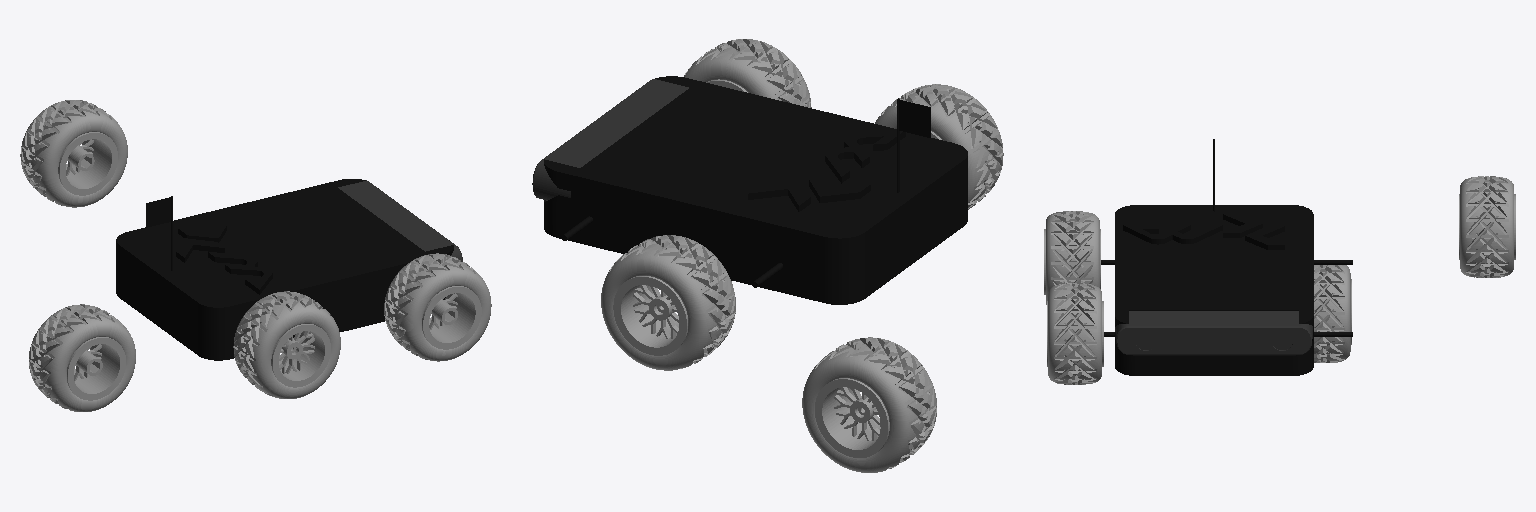
robot.urdf — ma_robot:
<?xml version="1.0" ?>
<!-- =================================================================================== -->
<!-- |    This document was autogenerated by xacro from ma_robot_description/urdf/ma_robot.urdf.xacro | -->
<!-- |    EDITING THIS FILE BY HAND IS NOT RECOMMENDED                                 | -->
<!-- =================================================================================== -->
<robot name="ma_robot">
  <!-- Materials (shared across all assemblies) -->
  <material name="Acetal_Resin_Black">
    <color rgba="0.098 0.098 0.098 1.0"/>
  </material>
  <material name="PA_11_Nylon_HP_11_30_with_EOS_P_396_3D_Printer">
    <color rgba="0.247 0.247 0.247 1.0"/>
  </material>
  <material name="Steel">
    <color rgba="0.627 0.627 0.627 1.0"/>
  </material>
  <link name="rear_left_wheel_link">
    <inertial>
      <origin rpy="0 0 0" xyz="0 0 0"/>
      <mass value="0.611603"/>
      <inertia ixx="5.265770e-04" ixy="-5.777757e-10" ixz="8.274260e-11" iyy="5.265750e-04" iyz="-6.033033e-11" izz="7.325315e-04"/>
    </inertial>
    <visual>
      <origin rpy="1.570796 0.000000 0.000000" xyz="-0.012900 -0.018051 0.005477"/>
      <geometry>
        <mesh filename="package://ma_robot_description/meshes/rear_left_wheel_link/rear_left_wheel_link.dae" scale="1 1 1"/>
      </geometry>
      <material name="Steel"/>
    </visual>
    <collision>
      <origin rpy="0 0 0" xyz="0 0 0"/>
      <geometry>
        <cylinder length="0.050" radius="0.045"/>
      </geometry>
    </collision>
  </link>
  <link name="front_left_wheel_link">
    <inertial>
      <origin rpy="0 0 0" xyz="0 0 0"/>
      <mass value="0.611603"/>
      <inertia ixx="5.265770e-04" ixy="-5.777757e-10" ixz="-8.274260e-11" iyy="5.265750e-04" iyz="6.033033e-11" izz="7.325315e-04"/>
    </inertial>
    <visual>
      <origin rpy="1.570796 0.000000 3.141593" xyz="-0.107100 0.070499 -0.137841"/>
      <geometry>
        <mesh filename="package://ma_robot_description/meshes/front_left_wheel_link/front_left_wheel_link.dae" scale="1 1 1"/>
      </geometry>
      <material name="Steel"/>
    </visual>
    <collision>
      <origin rpy="0 0 0" xyz="0 0 0"/>
      <geometry>
        <cylinder length="0.050" radius="0.045"/>
      </geometry>
    </collision>
  </link>
  <link name="front_right_wheel_link">
    <inertial>
      <origin rpy="0 0 0" xyz="0 0 0"/>
      <mass value="0.611603"/>
      <inertia ixx="5.265770e-04" ixy="-5.777757e-10" ixz="-8.274258e-11" iyy="5.265750e-04" iyz="6.033033e-11" izz="7.325315e-04"/>
    </inertial>
    <visual>
      <origin rpy="1.570796 0.000000 3.141593" xyz="0.179797 0.018051 0.124560"/>
      <geometry>
        <mesh filename="package://ma_robot_description/meshes/front_right_wheel_link/front_right_wheel_link.dae" scale="1 1 1"/>
      </geometry>
      <material name="Steel"/>
    </visual>
    <collision>
      <origin rpy="0 0 0" xyz="0 0 0"/>
      <geometry>
        <cylinder length="0.050" radius="0.045"/>
      </geometry>
    </collision>
  </link>
  <link name="rear_right_wheel_link">
    <inertial>
      <origin rpy="0 0 0" xyz="0 0 0"/>
      <mass value="0.611603"/>
      <inertia ixx="5.265770e-04" ixy="-5.777757e-10" ixz="8.274260e-11" iyy="5.265750e-04" iyz="-6.033033e-11" izz="7.325315e-04"/>
    </inertial>
    <visual>
      <origin rpy="1.570796 0.000000 0.000000" xyz="0.002378 -0.018051 -0.241816"/>
      <geometry>
        <mesh filename="package://ma_robot_description/meshes/rear_right_wheel_link/rear_right_wheel_link.dae" scale="1 1 1"/>
      </geometry>
      <material name="Steel"/>
    </visual>
    <collision>
      <origin rpy="0 0 0" xyz="0 0 0"/>
      <geometry>
        <cylinder length="0.050" radius="0.045"/>
      </geometry>
    </collision>
  </link>
  <!-- Links -->
  <link name="base_link">
    <inertial>
      <origin rpy="0 0 0" xyz="0.041574 -0.062494 0.024420"/>
      <mass value="2.899172"/>
      <inertia ixx="7.973854e-03" ixy="9.036948e-07" ixz="2.783510e-04" iyy="1.379501e-02" iyz="-4.481462e-07" izz="2.052789e-02"/>
    </inertial>
    <visual>
      <origin rpy="0.000000 0.000000 0.000000" xyz="0.000000 0.000000 0.000000"/>
      <geometry>
        <mesh filename="package://ma_robot_description/meshes/ma_robot/base_link.dae" scale="1 1 1"/>
      </geometry>
      <material name="Acetal_Resin_Black"/>
    </visual>
    <collision>
      <origin rpy="0.000000 0.000000 0.000000" xyz="0.000000 0.000000 0.000000"/>
      <geometry>
        <mesh filename="package://ma_robot_description/meshes/ma_robot/base_link_collision.stl" scale="0.01 0.01 0.01"/>
      </geometry>
    </collision>
  </link>
  <link name="zed2_camera_link">
    <inertial>
      <origin rpy="0 0 0" xyz="0.000000 0.015505 0.042389"/>
      <mass value="0.178229"/>
      <inertia ixx="2.662726e-05" ixy="-3.215230e-09" ixz="-1.621734e-09" iyy="4.362977e-04" iyz="-2.967393e-09" izz="4.390806e-04"/>
    </inertial>
    <visual>
      <origin rpy="0.000000 0.000000 0.000000" xyz="0.000000 0.000000 0.000000"/>
      <geometry>
        <mesh filename="package://ma_robot_description/meshes/ma_robot/zed2_camera_link.dae" scale="1 1 1"/>
      </geometry>
      <material name="PA_11_Nylon_HP_11_30_with_EOS_P_396_3D_Printer"/>
    </visual>
    <collision>
      <origin rpy="0.000000 0.000000 0.000000" xyz="0.000000 0.000000 0.000000"/>
      <geometry>
        <mesh filename="package://ma_robot_description/meshes/ma_robot/zed2_camera_link_collision.stl" scale="0.01 0.01 0.01"/>
      </geometry>
    </collision>
  </link>
  <link name="rplidar_s2_link">
    <inertial>
      <origin rpy="0 0 0" xyz="-0.595013 0.532942 0.012880"/>
      <mass value="0.203764"/>
      <inertia ixx="1.351079e-04" ixy="-7.653496e-09" ixz="1.410544e-08" iyy="1.362177e-04" iyz="3.930765e-08" izz="2.370283e-04"/>
    </inertial>
    <visual>
      <origin rpy="0.000000 0.000000 0.000000" xyz="0.000000 0.000000 0.000000"/>
      <geometry>
        <mesh filename="package://ma_robot_description/meshes/ma_robot/rplidar_s2_link.dae" scale="1 1 1"/>
      </geometry>
      <material name="Steel"/>
    </visual>
    <collision>
      <origin rpy="0.000000 0.000000 0.000000" xyz="0.000000 0.000000 0.000000"/>
      <geometry>
        <mesh filename="package://ma_robot_description/meshes/ma_robot/rplidar_s2_link_collision.stl" scale="0.01 0.01 0.01"/>
      </geometry>
    </collision>
  </link>
  <!-- Joints (internal to assembly) -->
  <joint name="zed2_camera_joint" type="fixed">
    <parent link="base_link"/>
    <child link="zed2_camera_link"/>
    <origin rpy="0.000000 0.000000 -1.570796" xyz="0.145000 -0.062500 -0.007371"/>
  </joint>
  <joint name="rplidar_s2_joint" type="fixed">
    <parent link="base_link"/>
    <child link="rplidar_s2_link"/>
    <origin rpy="0.000000 0.000000 -1.570796" xyz="-0.433747 -0.657506 0.046815"/>
  </joint>
  <!-- Wheel mount joints -->
  <!-- Front-left wheel -->
  <joint name="front_left_wheel_joint" type="continuous">
    <parent link="base_link"/>
    <child link="front_left_wheel_link"/>
    <origin rpy="-1.570796 0.000000 0.000000" xyz="0.130000 0.060000 0.020000"/>
    <axis xyz="0.000000 0.000000 1.000000"/>
    <limit effort="100.0" velocity="1.00"/>
  </joint>
  <!-- Front-right wheel -->
  <joint name="front_right_wheel_joint" type="continuous">
    <parent link="base_link"/>
    <child link="front_right_wheel_link"/>
    <origin rpy="1.570796 0.000000 0.000000" xyz="0.130000 -0.185000 0.020000"/>
    <axis xyz="0.000000 0.000000 1.000000"/>
    <limit effort="100.0" velocity="1.00"/>
  </joint>
  <!-- Rear-left wheel -->
  <joint name="rear_left_wheel_joint" type="continuous">
    <parent link="base_link"/>
    <child link="rear_left_wheel_link"/>
    <origin rpy="-1.570796 0.000000 0.000000" xyz="-0.020000 0.060000 0.020000"/>
    <axis xyz="0.000000 0.000000 1.000000"/>
    <limit effort="100.0" velocity="1.00"/>
  </joint>
  <!-- Rear-right wheel -->
  <joint name="rear_right_wheel_joint" type="continuous">
    <parent link="base_link"/>
    <child link="rear_right_wheel_link"/>
    <origin rpy="1.570796 0.000000 0.000000" xyz="-0.020000 -0.187000 0.020000"/>
    <axis xyz="0.000000 0.000000 1.000000"/>
    <limit effort="100.0" velocity="1.00"/>
  </joint>
  <!-- ROS 2 control: generated generic system -->
  <ros2_control name="ma_robot_system" type="system">
    <hardware>
      <plugin>mock_components/GenericSystem</plugin>
      <param name="cmd_topic">sim/ma_robot_system/cmd</param>
      <param name="state_topic">sim/ma_robot_system/state</param>
    </hardware>
    <joint name="front_left_wheel_joint">
      <command_interface name="position"/>
      <command_interface name="velocity"/>
      <state_interface name="position">
        <param name="initial_value">0.0</param>
      </state_interface>
      <state_interface name="velocity"/>
      <state_interface name="effort"/>
    </joint>
    <joint name="front_right_wheel_joint">
      <command_interface name="position"/>
      <command_interface name="velocity"/>
      <state_interface name="position">
        <param name="initial_value">0.0</param>
      </state_interface>
      <state_interface name="velocity"/>
      <state_interface name="effort"/>
    </joint>
    <joint name="rear_left_wheel_joint">
      <command_interface name="position"/>
      <command_interface name="velocity"/>
      <state_interface name="position">
        <param name="initial_value">0.0</param>
      </state_interface>
      <state_interface name="velocity"/>
      <state_interface name="effort"/>
    </joint>
    <joint name="rear_right_wheel_joint">
      <command_interface name="position"/>
      <command_interface name="velocity"/>
      <state_interface name="position">
        <param name="initial_value">0.0</param>
      </state_interface>
      <state_interface name="velocity"/>
      <state_interface name="effort"/>
    </joint>
  </ros2_control>
</robot>

--- Facts derived from the render (not from the file) ---
Views: 3 orthographic renders of the robot side by side, from view 1: azimuth 30°, elevation 25°; view 2: azimuth 150°, elevation 25°; view 3: azimuth 270°, elevation 25°.
Model ma_robot with 7 links and 6 joints (4 continuous, 2 fixed), rooted at base_link, posed all joints at 0.
Visible links, largest first — view 1: base_link, rear_right_wheel_link, rear_left_wheel_link, front_left_wheel_link, front_right_wheel_link, zed2_camera_link; view 2: base_link, rear_left_wheel_link, front_left_wheel_link, rear_right_wheel_link, front_right_wheel_link, zed2_camera_link; view 3: base_link, zed2_camera_link, rear_left_wheel_link, front_right_wheel_link, rear_right_wheel_link, front_left_wheel_link.
Link boxes in pixels (x1,y1,x2,y2): base_link: (116, 179, 453, 360); rear_right_wheel_link: (233, 291, 340, 398); rear_left_wheel_link: (20, 100, 127, 207); front_left_wheel_link: (29, 304, 135, 411); front_right_wheel_link: (384, 253, 491, 361); zed2_camera_link: (338, 180, 462, 261); base_link: (544, 76, 967, 304); rear_left_wheel_link: (601, 235, 735, 370); front_left_wheel_link: (802, 337, 936, 472); rear_right_wheel_link: (875, 84, 1003, 209); front_right_wheel_link: (684, 39, 811, 107); zed2_camera_link: (532, 79, 688, 200); base_link: (1101, 139, 1352, 375); zed2_camera_link: (1115, 311, 1312, 354); rear_left_wheel_link: (1459, 176, 1515, 277); front_right_wheel_link: (1047, 283, 1103, 384); rear_right_wheel_link: (1044, 211, 1100, 304); front_left_wheel_link: (1314, 265, 1351, 362).
Size in the robot's own frame: 0.3168 by 0.4148 by 0.2288 metres.
6 mesh visuals loaded from 7 distinct referenced files (6 Collada DAE); not drawn: 1 (reference not matched to a file when rendering).
